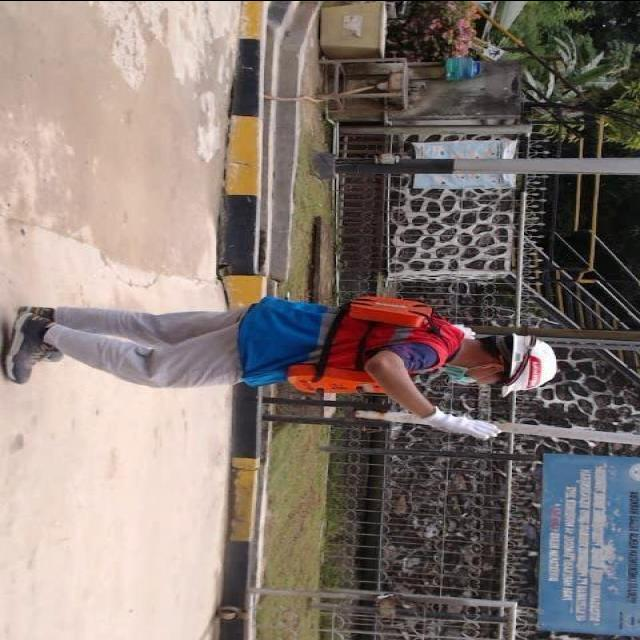helmet: (508, 320, 562, 404)
